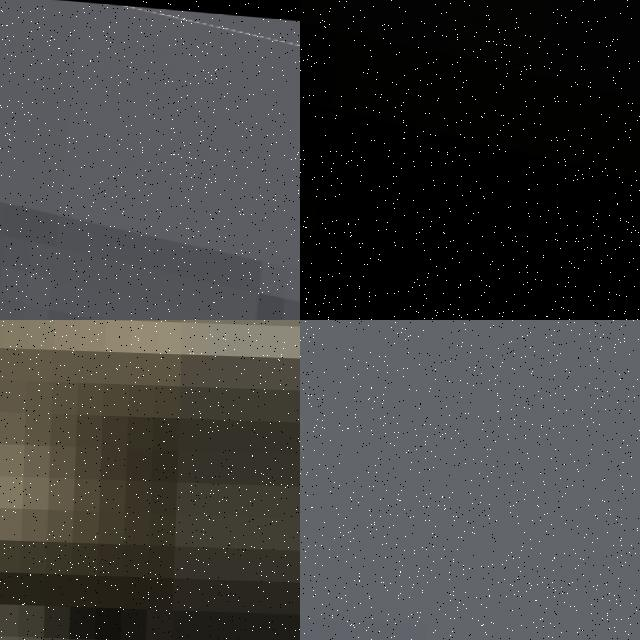0: (0, 0, 300, 320)
drone: (300, 0, 640, 320)
